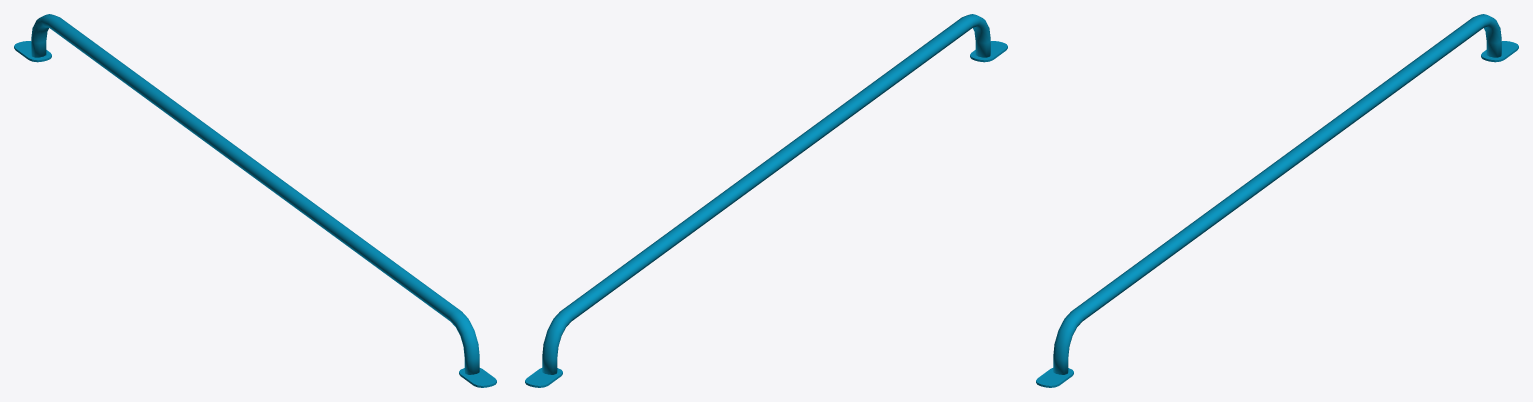
The model's file is HR.f8c9fad1.glb.
3 views of the same model, side by side, from view 1: azimuth 30°, elevation 25°; view 2: azimuth 150°, elevation 25°; view 3: azimuth 330°, elevation 25° (orthographic).
Visible parts, largest first — view 1: Handrail,_colorize_; view 2: Handrail,_colorize_; view 3: Handrail,_colorize_.
Part boxes in pixels (<box>): Handrail,_colorize_: <box>14,14,496,387</box>; Handrail,_colorize_: <box>525,14,1007,387</box>; Handrail,_colorize_: <box>1036,14,1518,387</box>.
Bounding box in the file's own units: 0.0323 × 0.072 × 1.19.
